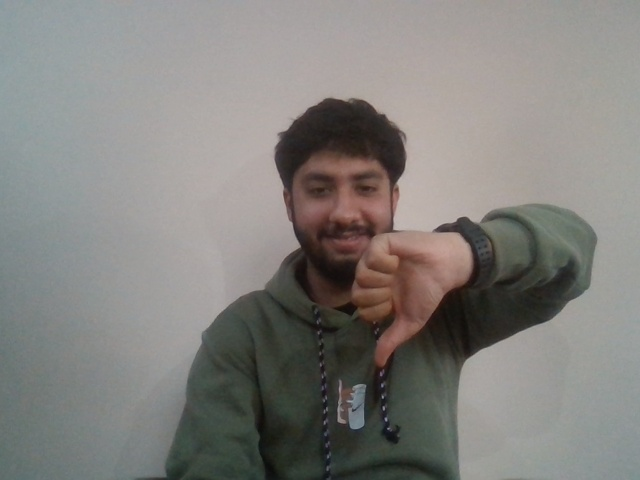No: (353, 234, 445, 375)
